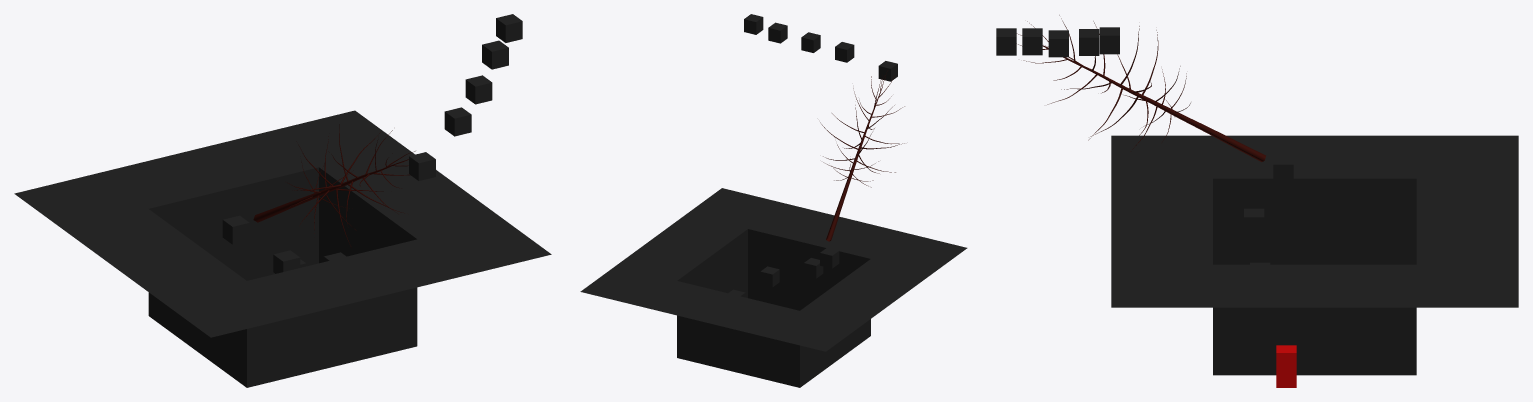
File: map.obj
3 views of the same model, side by side, from view 1: azimuth 30°, elevation 25°; view 2: azimuth 150°, elevation 25°; view 3: azimuth 270°, elevation 25° (orthographic). The views are drawn at different scales.
Visible parts, largest first — view 1: Cube, tree, Cube.007, Cube.009, Cube.010, Cube.011, Cube.008, Cube.012, Cube.006; view 2: Cube, tree, Cube.005, Cube.011, Cube.012, Cube.007, Cube.009, Cube.010, Cube.008; view 3: Cube, tree, Cube.013, Cube.008, Cube.009, Cube.006, Cube.010, Cube.012, Cube.007, Cube.011.
Boxes of the visible parts, bbox=[...] form: Cube: bbox=[14, 110, 551, 387]; tree: bbox=[253, 124, 415, 247]; Cube.007: bbox=[222, 215, 249, 244]; Cube.009: bbox=[444, 107, 471, 136]; Cube.010: bbox=[465, 75, 492, 104]; Cube.011: bbox=[482, 40, 508, 69]; Cube.008: bbox=[409, 152, 435, 180]; Cube.012: bbox=[496, 14, 522, 42]; Cube.006: bbox=[273, 250, 300, 273]; Cube: bbox=[580, 188, 967, 387]; tree: bbox=[820, 71, 904, 241]; Cube.005: bbox=[760, 266, 779, 287]; Cube.011: bbox=[768, 22, 787, 43]; Cube.012: bbox=[744, 14, 763, 34]; Cube.007: bbox=[820, 247, 839, 268]; Cube.009: bbox=[835, 42, 854, 62]; Cube.010: bbox=[801, 32, 820, 52]; Cube.008: bbox=[878, 61, 897, 81]; Cube: bbox=[1111, 135, 1518, 375]; tree: bbox=[1017, 15, 1265, 161]; Cube.013: bbox=[1276, 345, 1296, 387]; Cube.008: bbox=[996, 28, 1016, 55]; Cube.009: bbox=[1022, 28, 1042, 55]; Cube.006: bbox=[1244, 208, 1264, 235]; Cube.010: bbox=[1048, 30, 1068, 57]; Cube.012: bbox=[1099, 27, 1119, 54]; Cube.007: bbox=[1273, 156, 1293, 182]; Cube.011: bbox=[1079, 29, 1099, 55].
Size of what is drawn, in the model's own units: 40 by 40.91 by 51.28.
